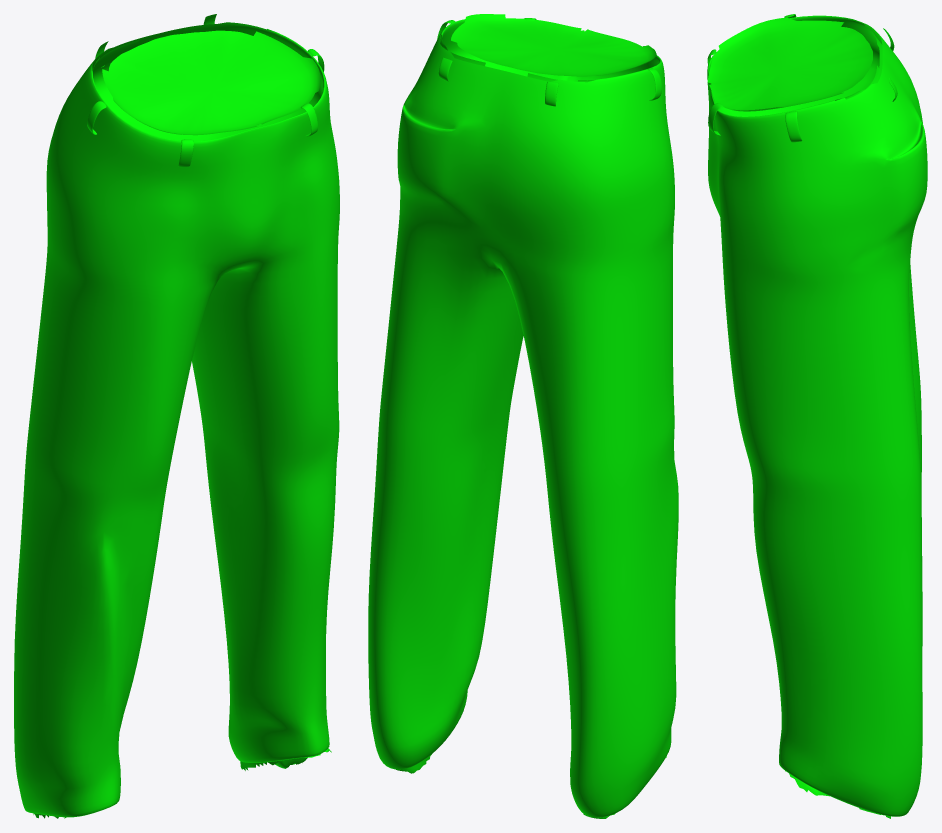
Rendered from mens bottom3.glb.
3 renders of one model, left to right at view 1: azimuth 30°, elevation 25°; view 2: azimuth 150°, elevation 25°; view 3: azimuth 270°, elevation 25°, orthographic. The views are drawn at different scales.
Parts seen in each view (by area): view 1: imagetostl_mesh0; view 2: imagetostl_mesh0; view 3: imagetostl_mesh0.
Part boxes in pixels (box(x1,y1,x2,y2)): imagetostl_mesh0: box(14, 14, 339, 818); imagetostl_mesh0: box(368, 14, 678, 818); imagetostl_mesh0: box(707, 14, 927, 818).
Size of the model in its own units: 0.6112 by 1.55 by 0.4318.
